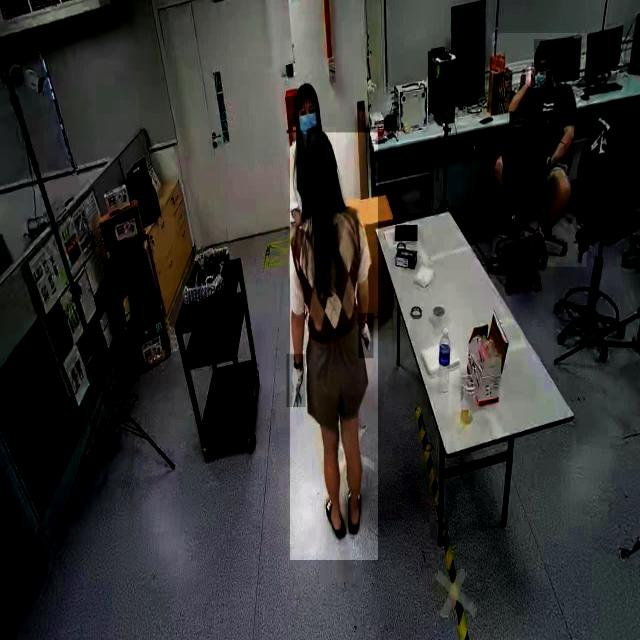face_mask: (294, 104, 318, 140), (531, 62, 554, 97)
hand_glove: (286, 354, 306, 408), (358, 313, 374, 358)
hand_noglove: (528, 67, 537, 88)
head_nohelmet: (295, 127, 336, 165), (534, 39, 556, 61), (297, 82, 319, 101)
person: (290, 132, 378, 561), (492, 33, 586, 267)
